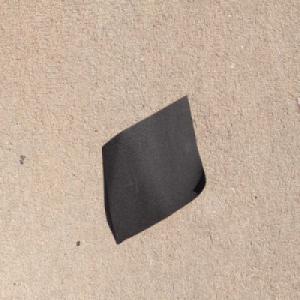PaintChip: (101, 93, 206, 246)
